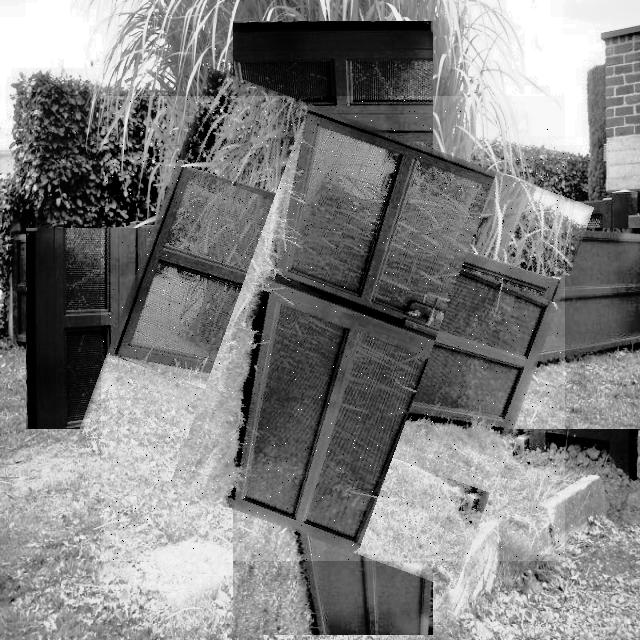fences: (101, 96, 565, 561)
